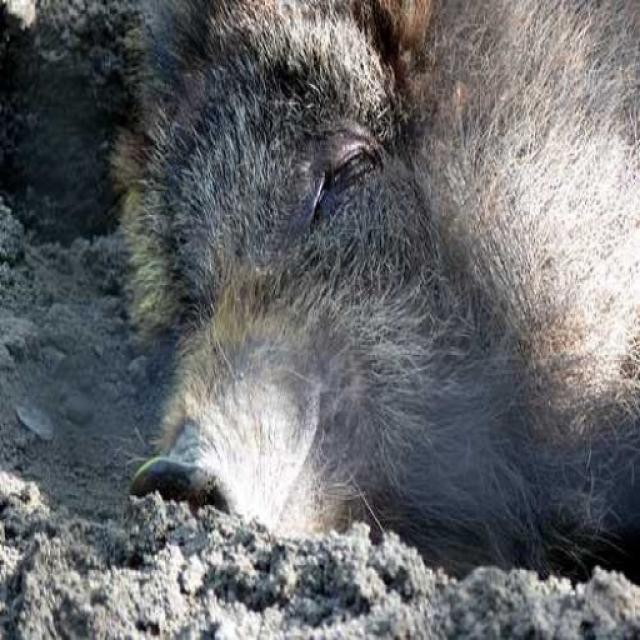pig: (79, 11, 640, 577)
